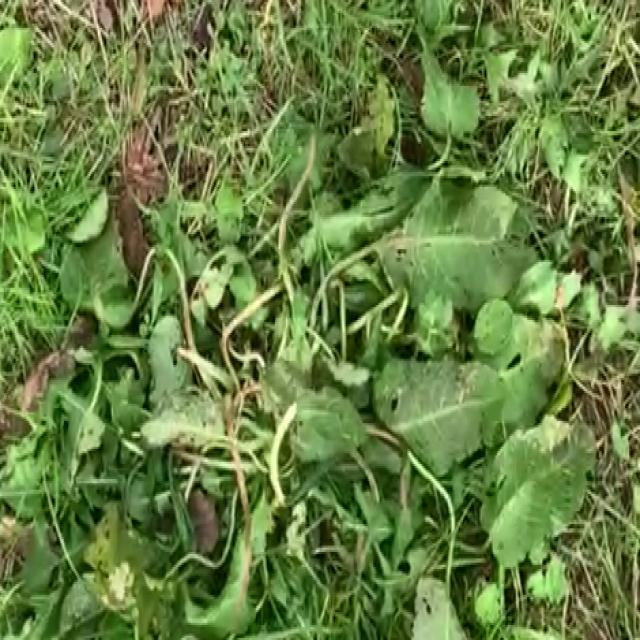organic waste: (30, 77, 620, 640)
